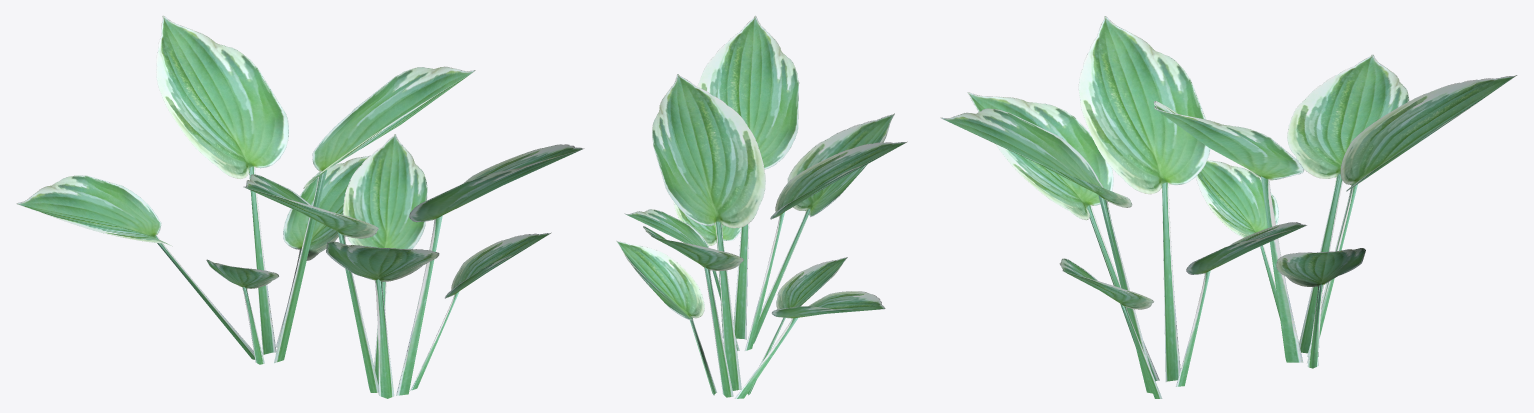
File: plant_small_wg_03S.fbx
3 views of the same model, side by side, from view 1: azimuth 30°, elevation 25°; view 2: azimuth 150°, elevation 25°; view 3: azimuth 270°, elevation 25° (orthographic). The views are drawn at different scales.
Parts seen in each view (by area): view 1: plant_small_wg_03S; view 2: plant_small_wg_03S; view 3: plant_small_wg_03S.
Boxes of the visible parts, x1,y1,x2,y2 form: plant_small_wg_03S: [16, 15, 584, 398]; plant_small_wg_03S: [616, 15, 907, 398]; plant_small_wg_03S: [940, 16, 1517, 398].
Bounding box in the file's own units: 62.45 × 46.59 × 76.22.
